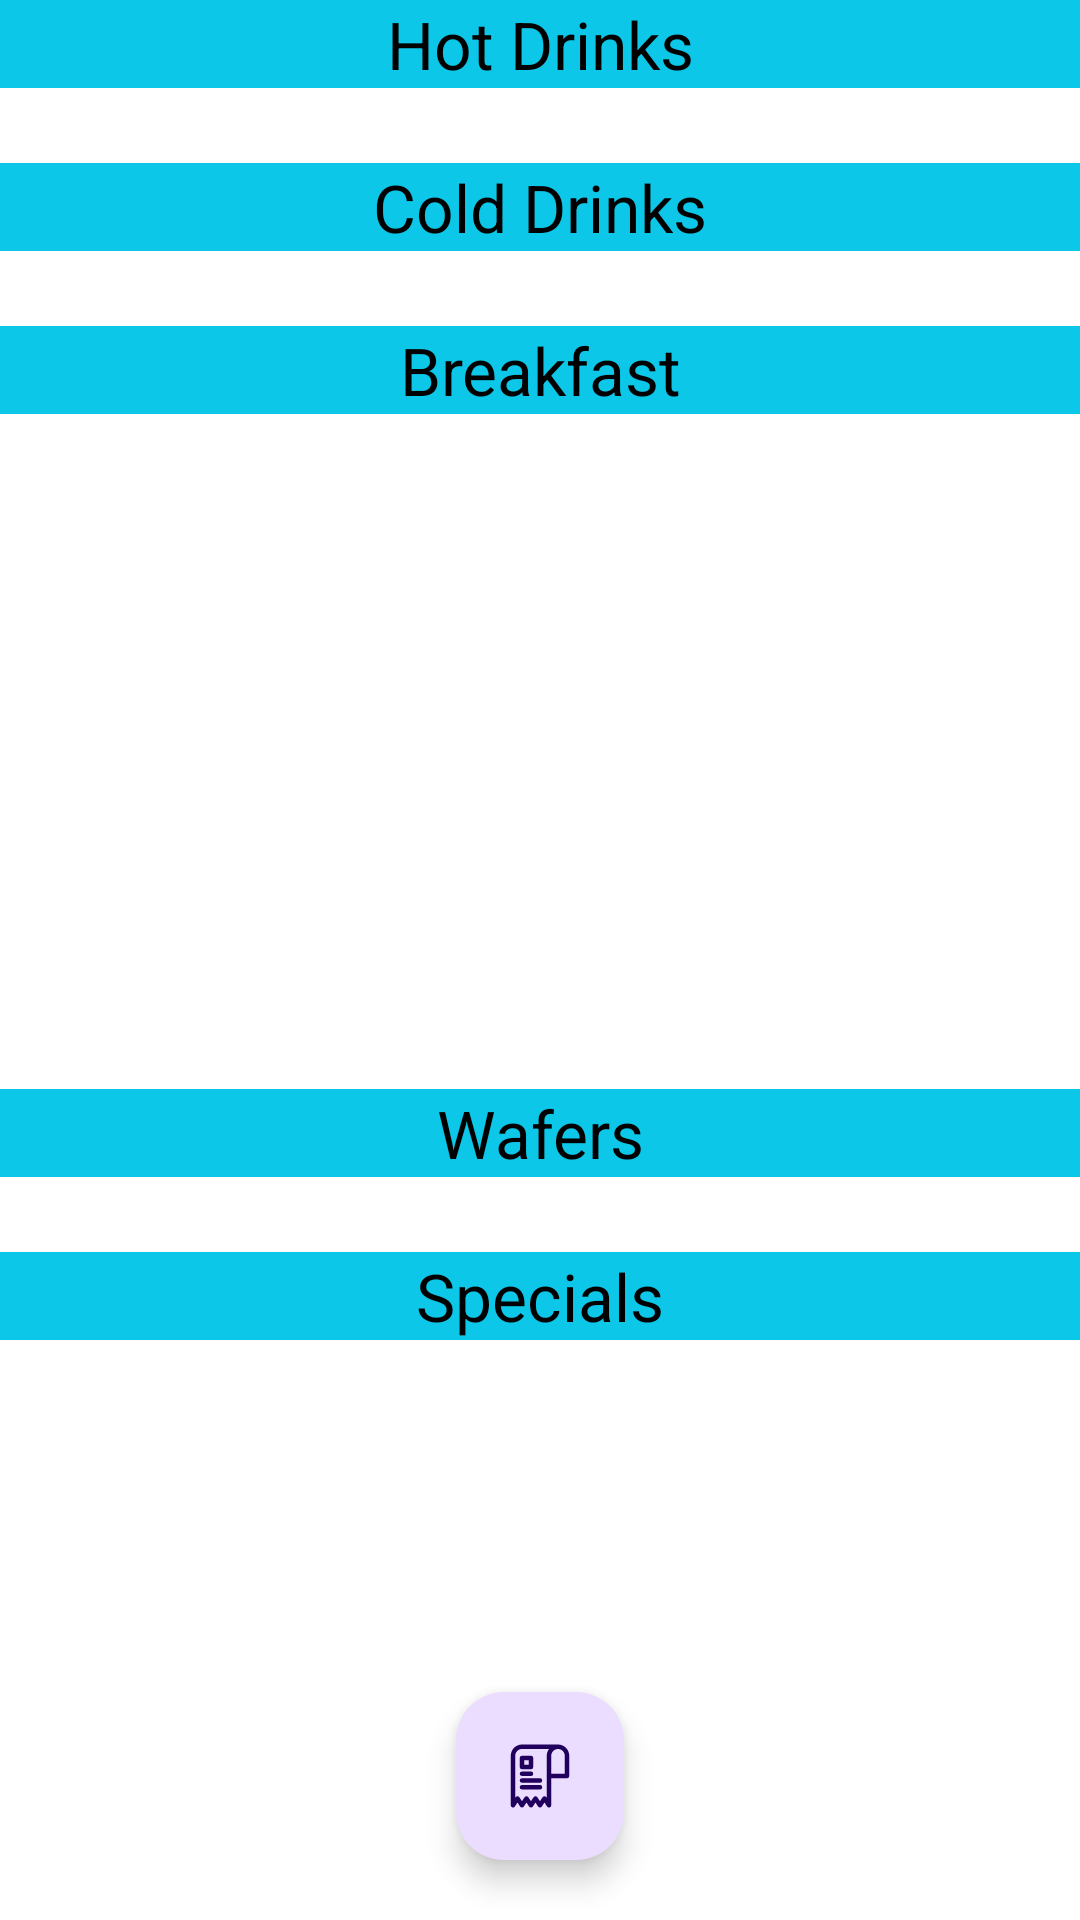

Named icons in this screenshot (1080px×1920px) and their centers, point (x, y):
bill: point (540, 1776)
